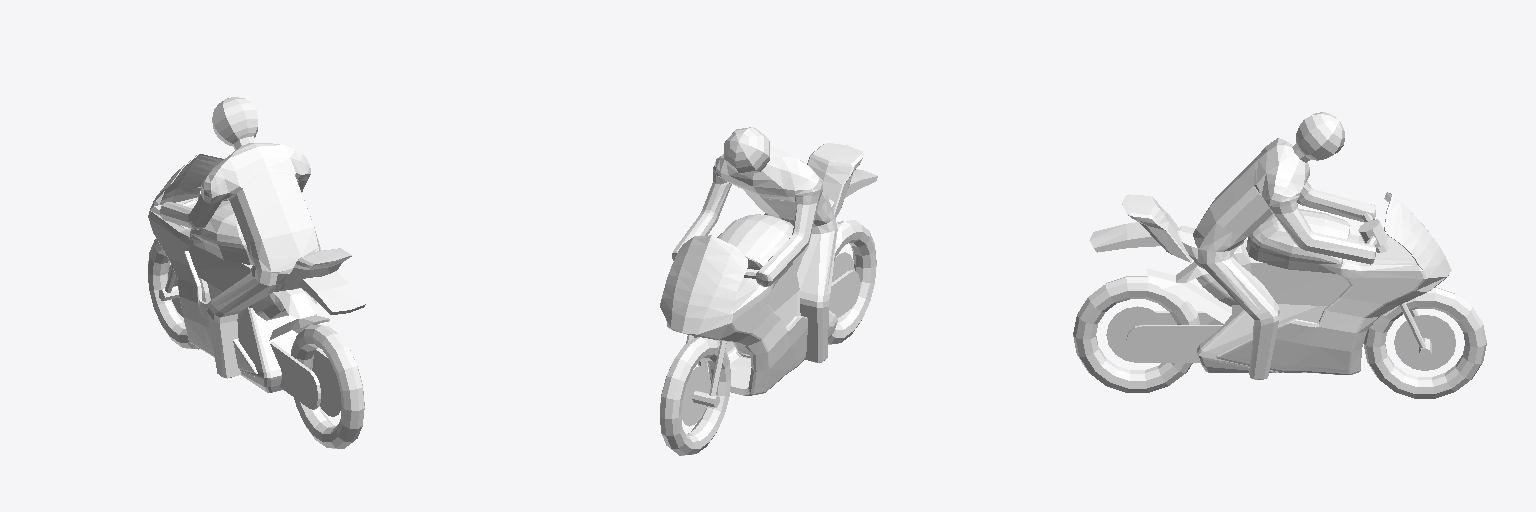
The model's file is MOTO.obj.
3 views of the same model, side by side, from view 1: azimuth 30°, elevation 25°; view 2: azimuth 150°, elevation 25°; view 3: azimuth 270°, elevation 25° (orthographic).
Visible parts, largest first — view 1: moto; view 2: moto; view 3: moto.
Part boxes in pixels (bbox=[...]): moto: bbox=[148, 97, 365, 448]; moto: bbox=[660, 127, 877, 455]; moto: bbox=[1073, 112, 1486, 398].
Size of the model in its own units: 54.49 by 139 by 183.